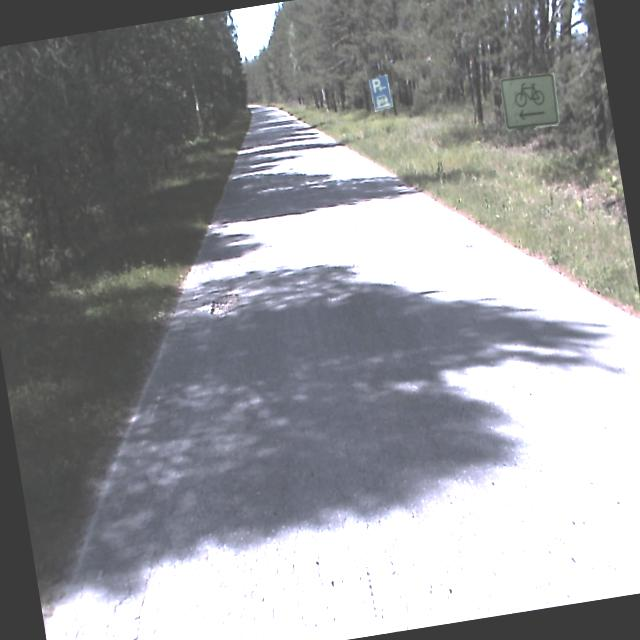road: (48, 109, 640, 640)
